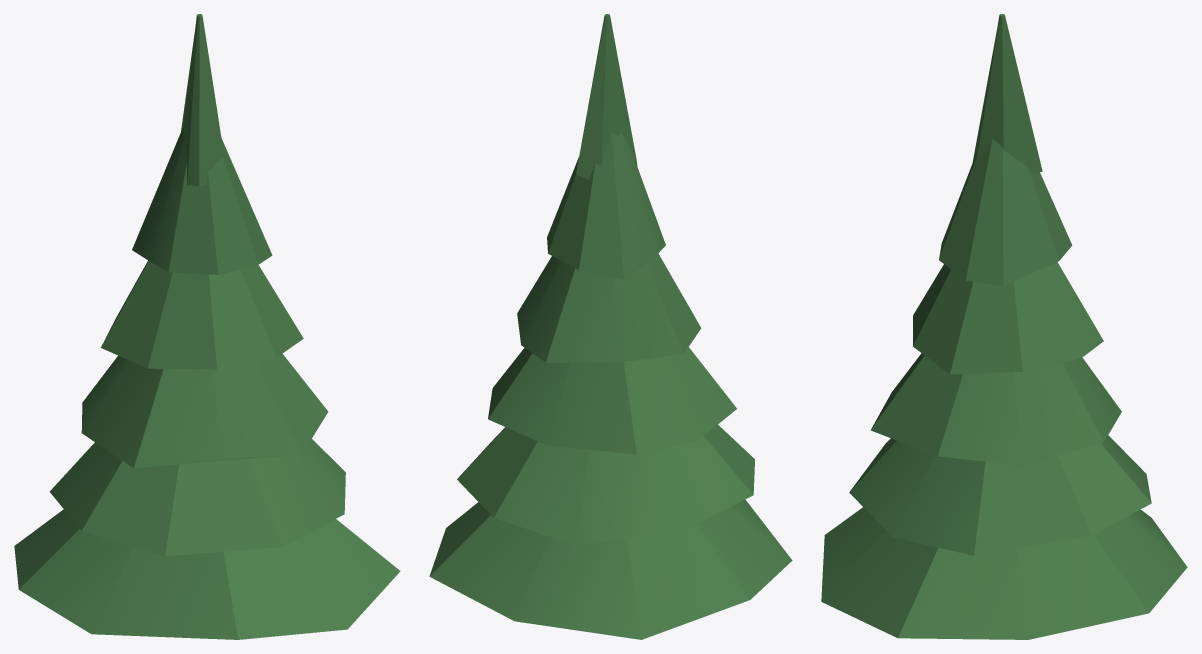
Rendered from tree_conifer.glb.
The picture shows the model from 3 angles, left to right: view 1: azimuth 30°, elevation 25°; view 2: azimuth 150°, elevation 25°; view 3: azimuth 270°, elevation 25°; orthographic projection. The views are drawn at different scales.
Parts seen in each view (by area): view 1: tree_conifer; view 2: tree_conifer; view 3: tree_conifer.
Part boxes in pixels (<box>): tree_conifer: <box>14,14,400,639</box>; tree_conifer: <box>429,14,792,639</box>; tree_conifer: <box>821,14,1187,639</box>.
Size of the model in its own units: 6.26 by 10.95 by 6.31.
